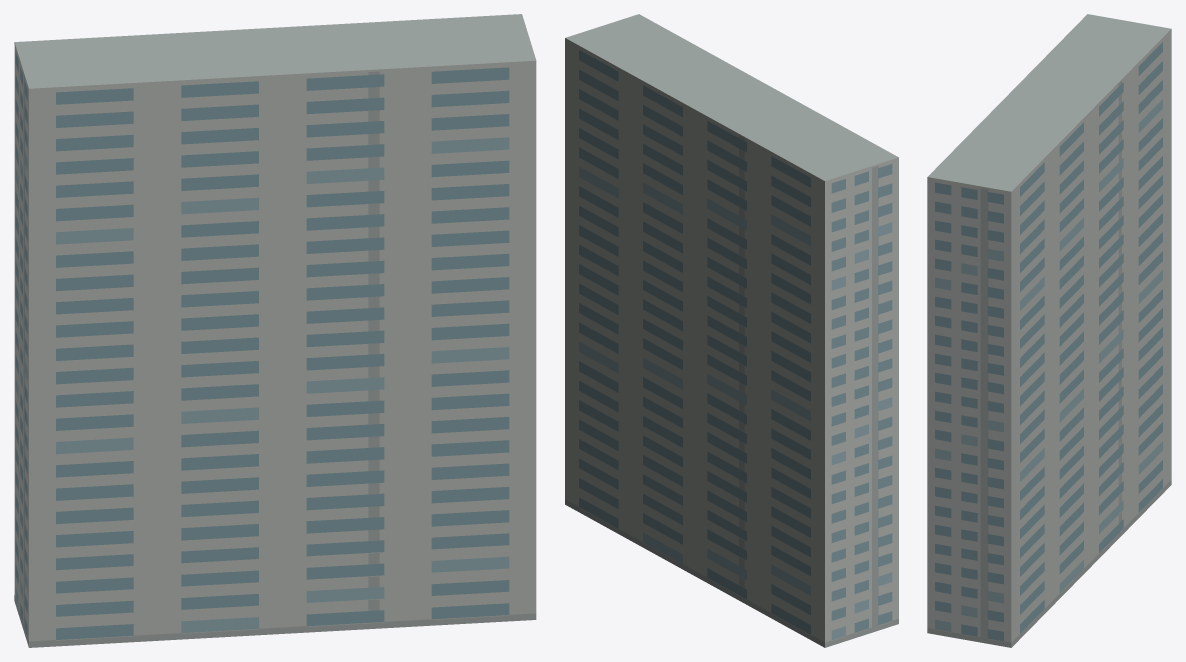
File: residential-93fc10b8-6fb5-4f0c-9510-9af4f8d483a7.glb
The picture shows the model from 3 angles, left to right: view 1: azimuth 30°, elevation 25°; view 2: azimuth 150°, elevation 25°; view 3: azimuth 270°, elevation 25°; orthographic projection. The views are drawn at different scales.
Visible parts, largest first — view 1: residential-93fc10b8-6fb5-4f0c-9510-9af4f8d483a7.tmp; view 2: residential-93fc10b8-6fb5-4f0c-9510-9af4f8d483a7.tmp; view 3: residential-93fc10b8-6fb5-4f0c-9510-9af4f8d483a7.tmp.
Boxes of the visible parts, x1=… form: residential-93fc10b8-6fb5-4f0c-9510-9af4f8d483a7.tmp: x1=14, y1=14, x2=536, y2=647; residential-93fc10b8-6fb5-4f0c-9510-9af4f8d483a7.tmp: x1=565, y1=14, x2=898, y2=647; residential-93fc10b8-6fb5-4f0c-9510-9af4f8d483a7.tmp: x1=927, y1=14, x2=1171, y2=647.
Size of the model in its own units: 54.32 by 65 by 31.53.
